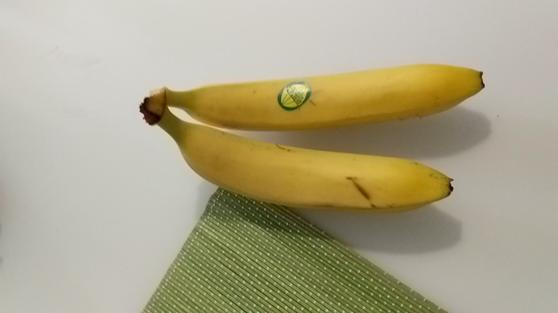banana: (140, 110, 454, 209), (140, 63, 486, 126)
